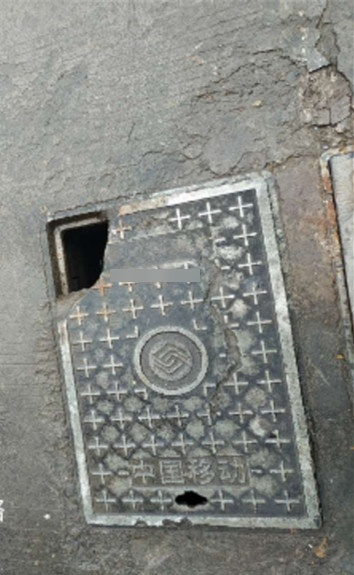broke: (39, 170, 324, 531)
